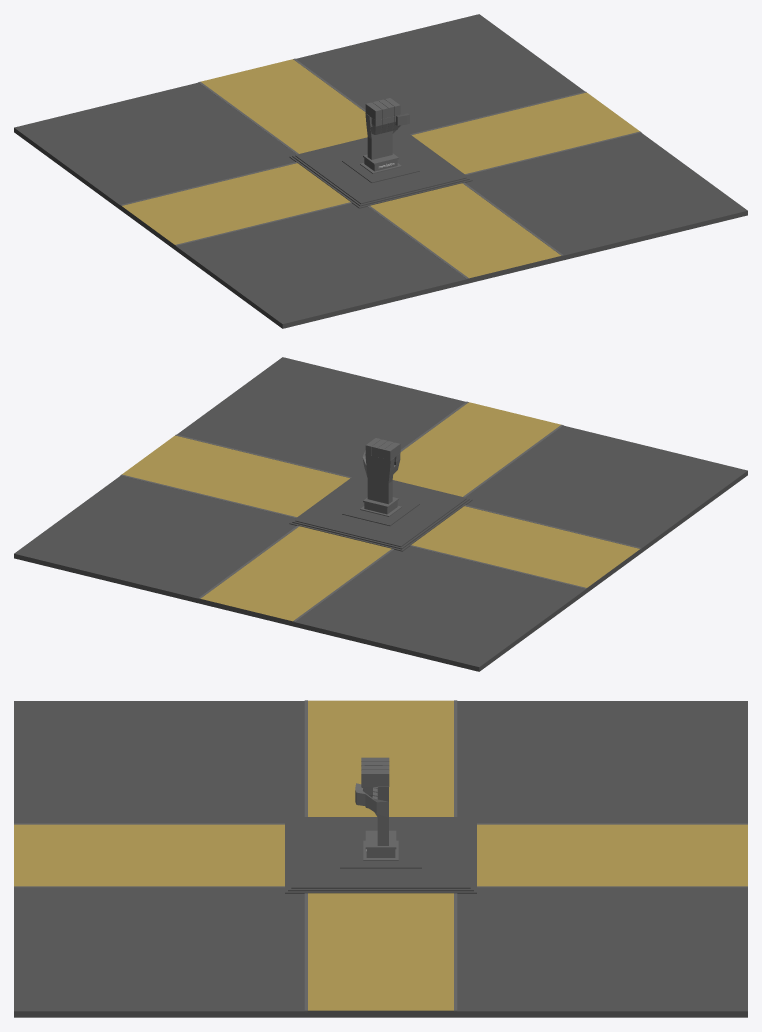
File: place_de_la_revolution_with_soil.fbx
The picture shows the model from 3 angles, top to bottom: view 1: azimuth 30°, elevation 25°; view 2: azimuth 150°, elevation 25°; view 3: azimuth 270°, elevation 25°; orthographic projection. The views are drawn at different scales.
Parts seen in each view (by area): view 1: ground.005, ground.006, Cube.017, Cube.011, Cube.018, Cube.015, Cube.010, Cube.019; view 2: ground.005, ground.006, Cube.017, Cube.011, Cube.018, Cube.015, Cube.010; view 3: ground.005, ground.006, Cube.017, Cube.011, Cube.018, Cube.015, Cube.010, Cube.019.
Boxes of the visible parts, box(x1,y1,x2,y2) form: ground.005: box(14, 14, 747, 328); ground.006: box(120, 58, 641, 278); Cube.017: box(295, 129, 466, 203); Cube.011: box(365, 98, 409, 159); Cube.018: box(342, 151, 419, 182); Cube.015: box(292, 129, 469, 206); Cube.010: box(289, 129, 472, 208); Cube.019: box(360, 153, 401, 173); ground.005: box(14, 357, 747, 671); ground.006: box(120, 401, 641, 622); Cube.017: box(295, 472, 466, 546); Cube.011: box(362, 438, 400, 504); Cube.018: box(342, 495, 419, 525); Cube.015: box(292, 472, 469, 549); Cube.010: box(289, 472, 472, 551); ground.005: box(14, 701, 747, 1017); ground.006: box(14, 700, 747, 1012); Cube.017: box(291, 817, 470, 888); Cube.011: box(355, 757, 389, 845); Cube.018: box(340, 835, 421, 868); Cube.015: box(288, 817, 473, 891); Cube.010: box(285, 817, 476, 893); Cube.019: box(363, 830, 398, 860).
Bounding box in the file's own units: 52 × 52 × 7.56.
